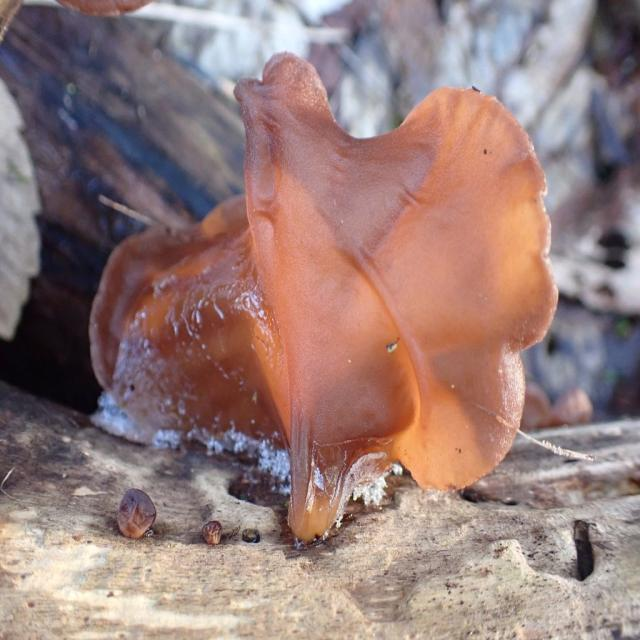Matang: (77, 45, 557, 549)
